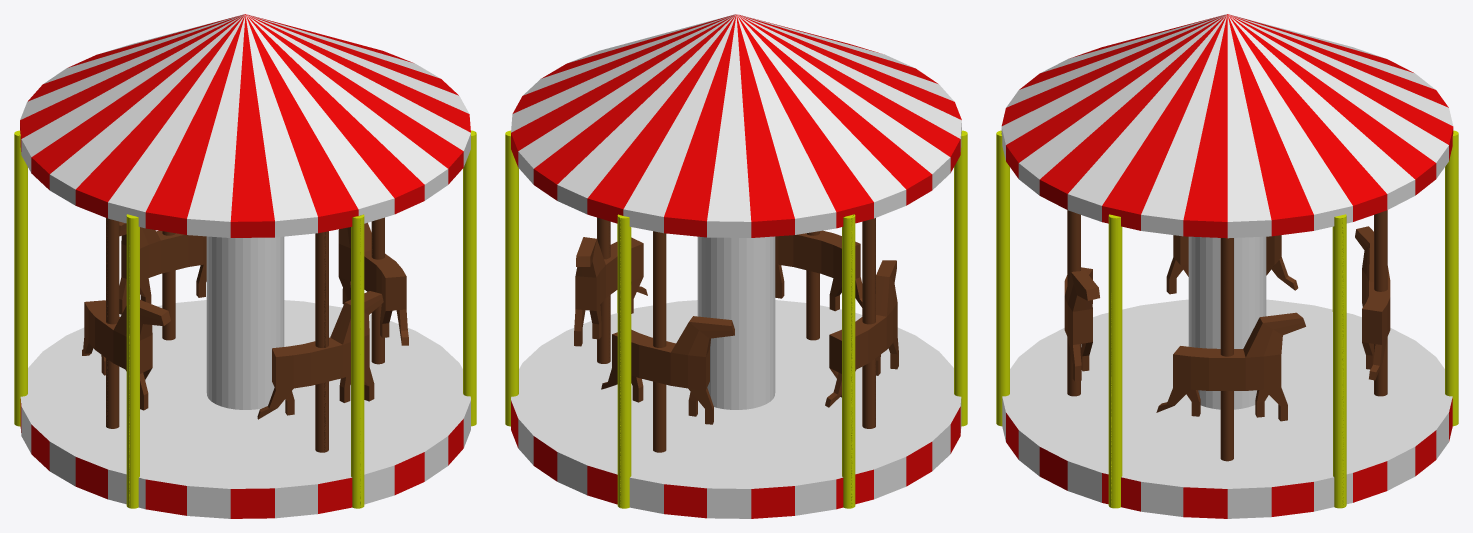
The model's file is carousel.fbx.
The picture shows the model from 3 angles, left to right: view 1: azimuth 30°, elevation 25°; view 2: azimuth 150°, elevation 25°; view 3: azimuth 270°, elevation 25°; orthographic projection.
Visible parts, largest first — view 1: Cylinder, InnerColumn, OuterColumn; view 2: Cylinder, InnerColumn, OuterColumn; view 3: Cylinder, InnerColumn, OuterColumn.
Part boxes in pixels (x1,y1,x2,y2): Cylinder: [20, 14, 470, 518]; InnerColumn: [82, 217, 408, 452]; OuterColumn: [14, 130, 476, 508]; Cylinder: [511, 14, 961, 518]; InnerColumn: [574, 217, 898, 452]; OuterColumn: [505, 130, 967, 508]; Cylinder: [1001, 14, 1453, 518]; InnerColumn: [1064, 210, 1390, 461]; OuterColumn: [996, 130, 1458, 508].
Bounding box in the file's own units: 10 × 10 × 10.23.
